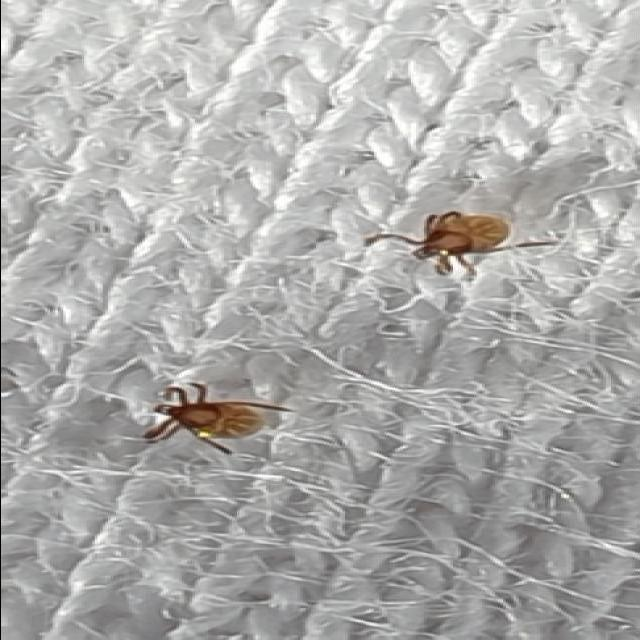Ixodes Ricinus-F: (359, 208, 563, 270), (142, 381, 292, 454)
